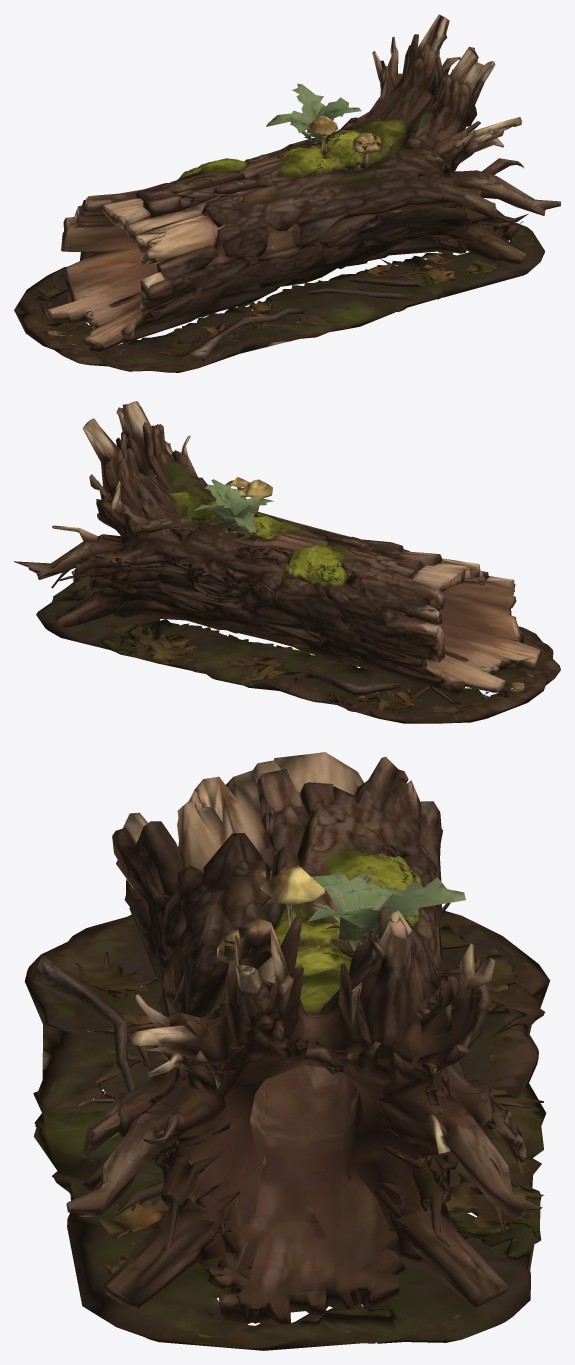
Rendered from nature_log_fallen.glb.
The picture shows the model from 3 angles, top to bottom: view 1: azimuth 30°, elevation 25°; view 2: azimuth 150°, elevation 25°; view 3: azimuth 270°, elevation 25°; orthographic projection. The views are drawn at different scales.
Parts seen in each view (by area): view 1: world; view 2: world; view 3: world.
Part boxes in pixels (left/top/right/bottom): world: left=14, top=14, right=560, bottom=372; world: left=14, top=401, right=560, bottom=723; world: left=24, top=752, right=550, bottom=1350.
Size of the model in its own units: 3.19 by 1.29 by 1.55.
1 material, 1 textured.
